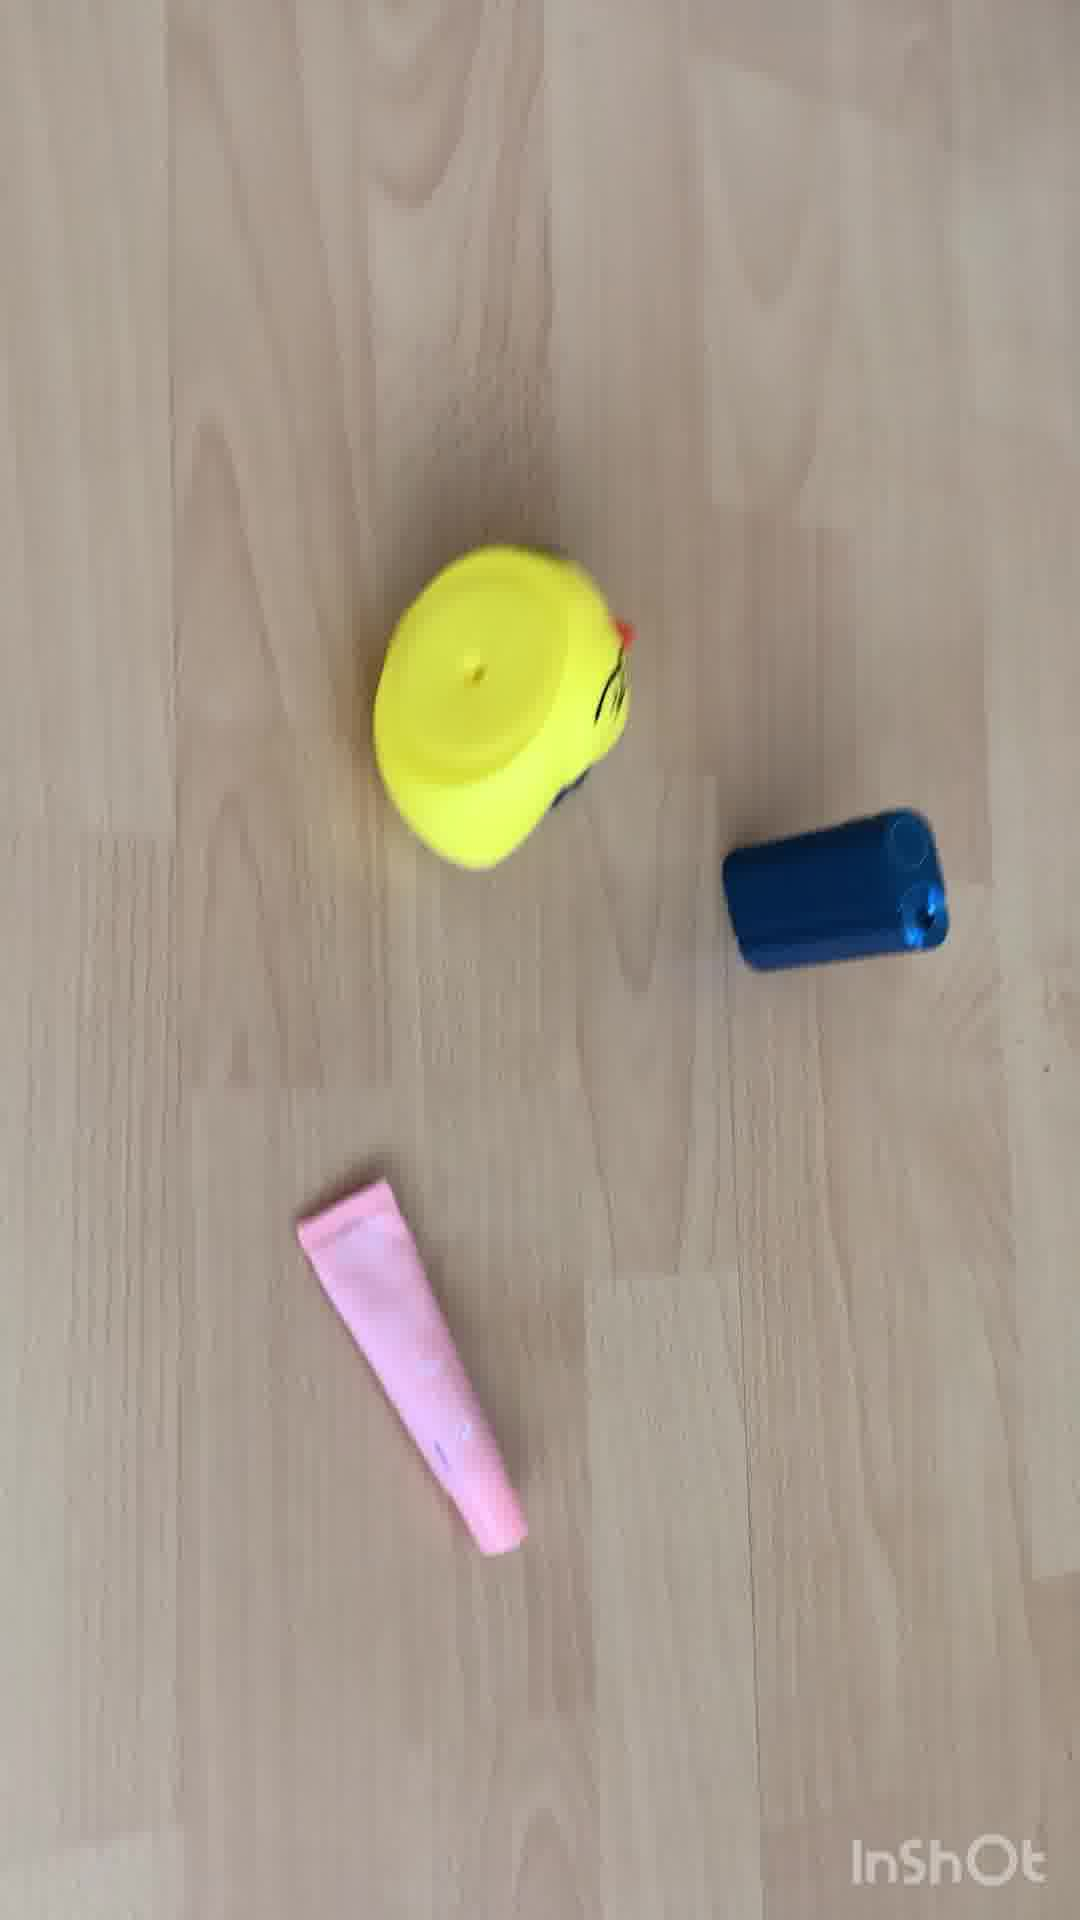duck: (377, 527, 640, 890)
glo: (717, 798, 959, 964)
lip balm: (298, 1175, 541, 1567)
